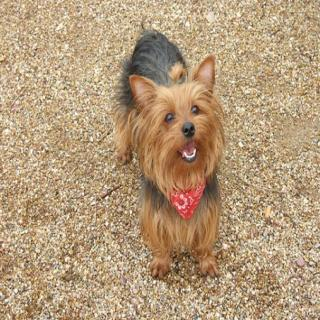dog: (125, 68, 240, 208)
nose: (180, 120, 198, 138)
